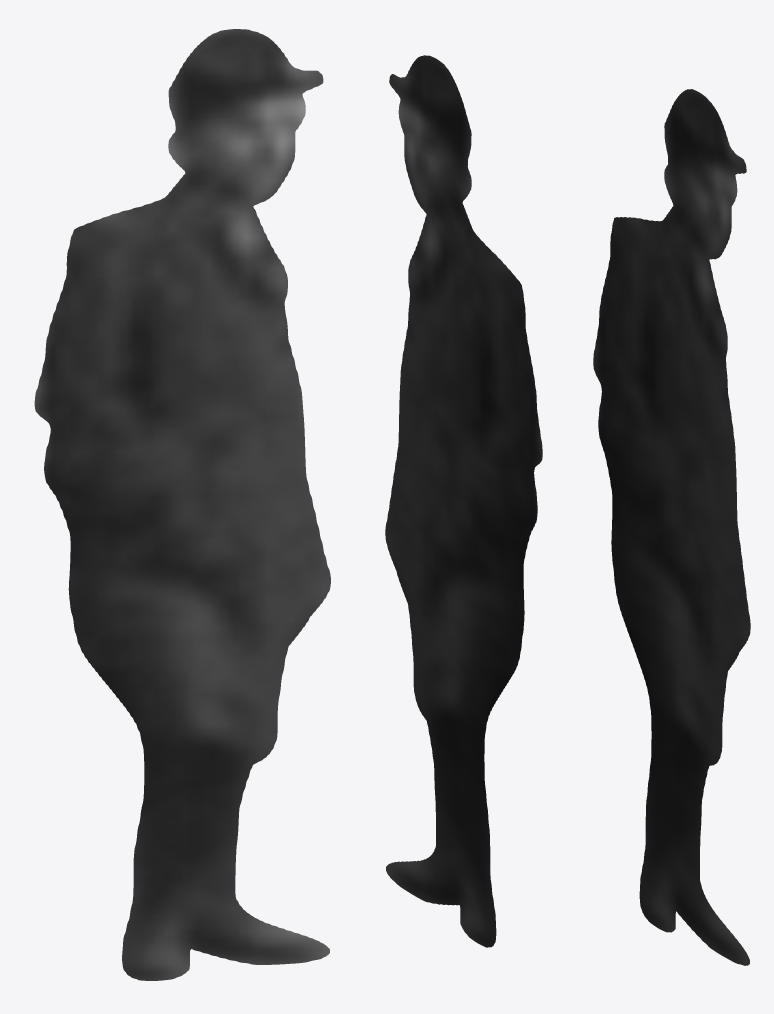
File: boy_A.FBX
3 views of the same model, side by side, from view 1: azimuth 30°, elevation 25°; view 2: azimuth 150°, elevation 25°; view 3: azimuth 330°, elevation 25° (orthographic). The views are drawn at different scales.
Parts seen in each view (by area): view 1: boy_A; view 2: boy_A; view 3: boy_A.
Part boxes in pixels (bbox=[...]): boy_A: bbox=[34, 29, 330, 980]; boy_A: bbox=[385, 55, 542, 947]; boy_A: bbox=[593, 89, 750, 965].
Size of the model in its own units: 42.14 by 148 by 19.1.
1 material, 1 textured.
